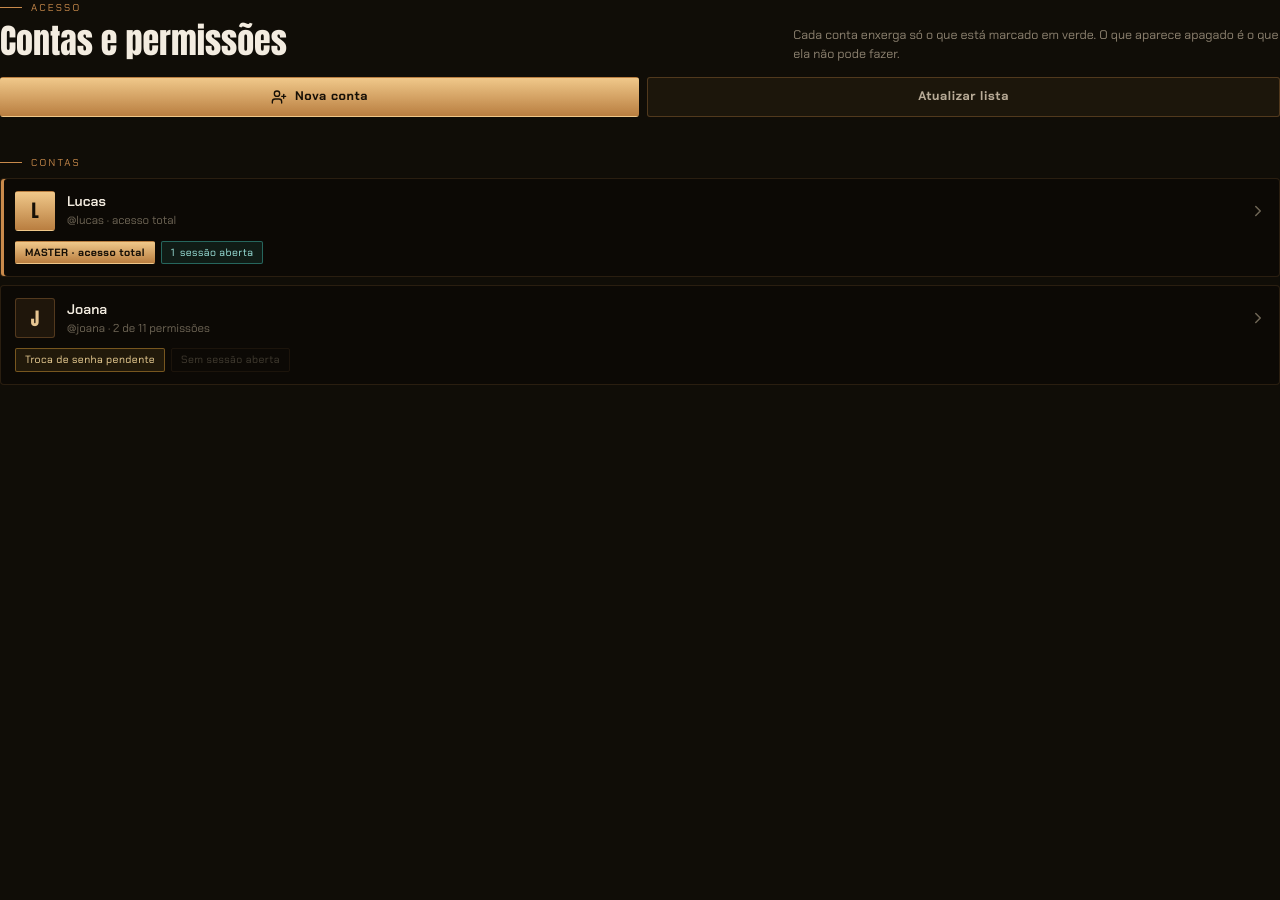
Test case: Usuários no celular › as ações de risco continuam pedindo confirmação nomeada dentro da folha
Click the button with aria-label "Abrir a conta de Joana" at (87, 309), box [67,300,1237,318]
(page scrolled)
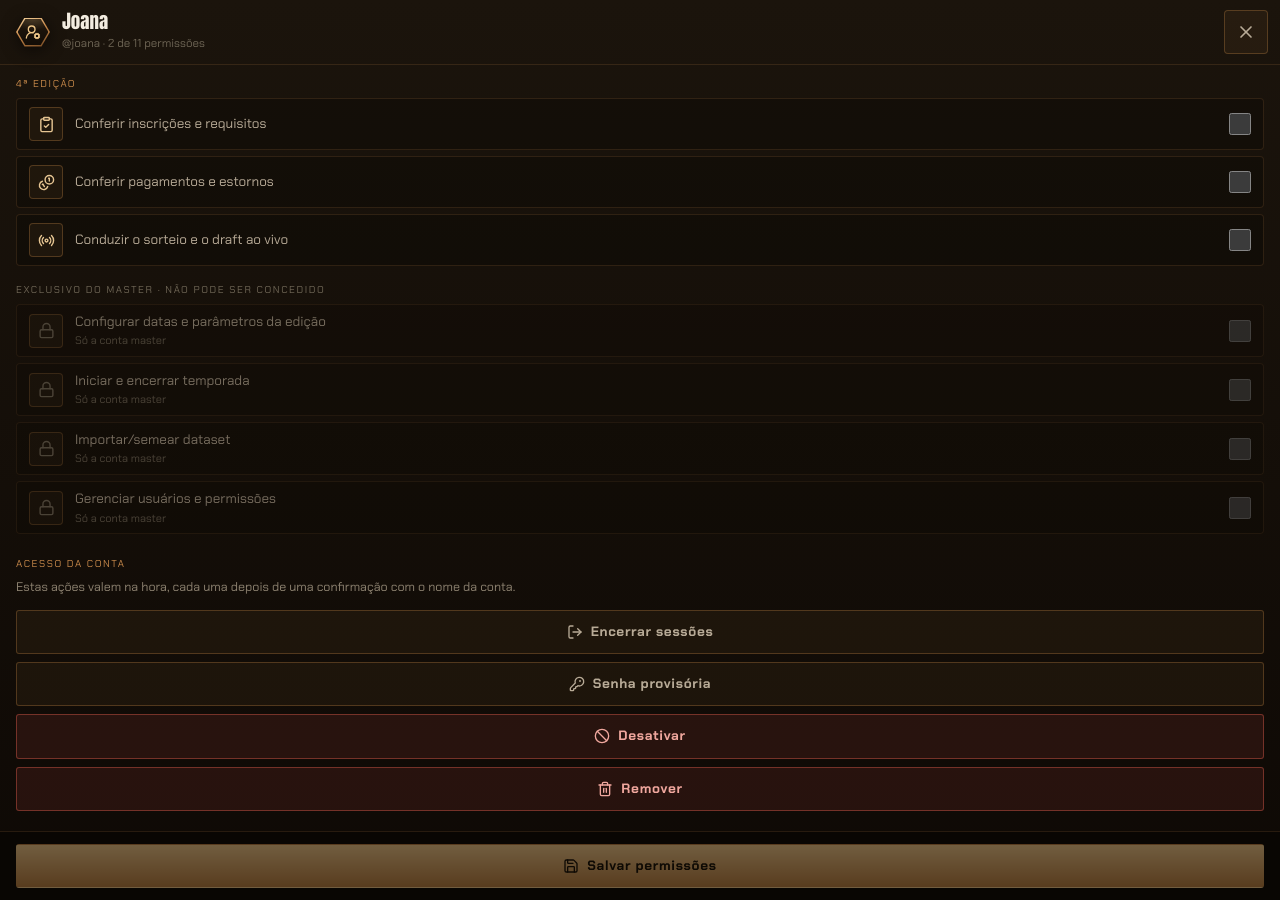
Click the button "Desativar" at (640, 736), box [16,714,1264,759]
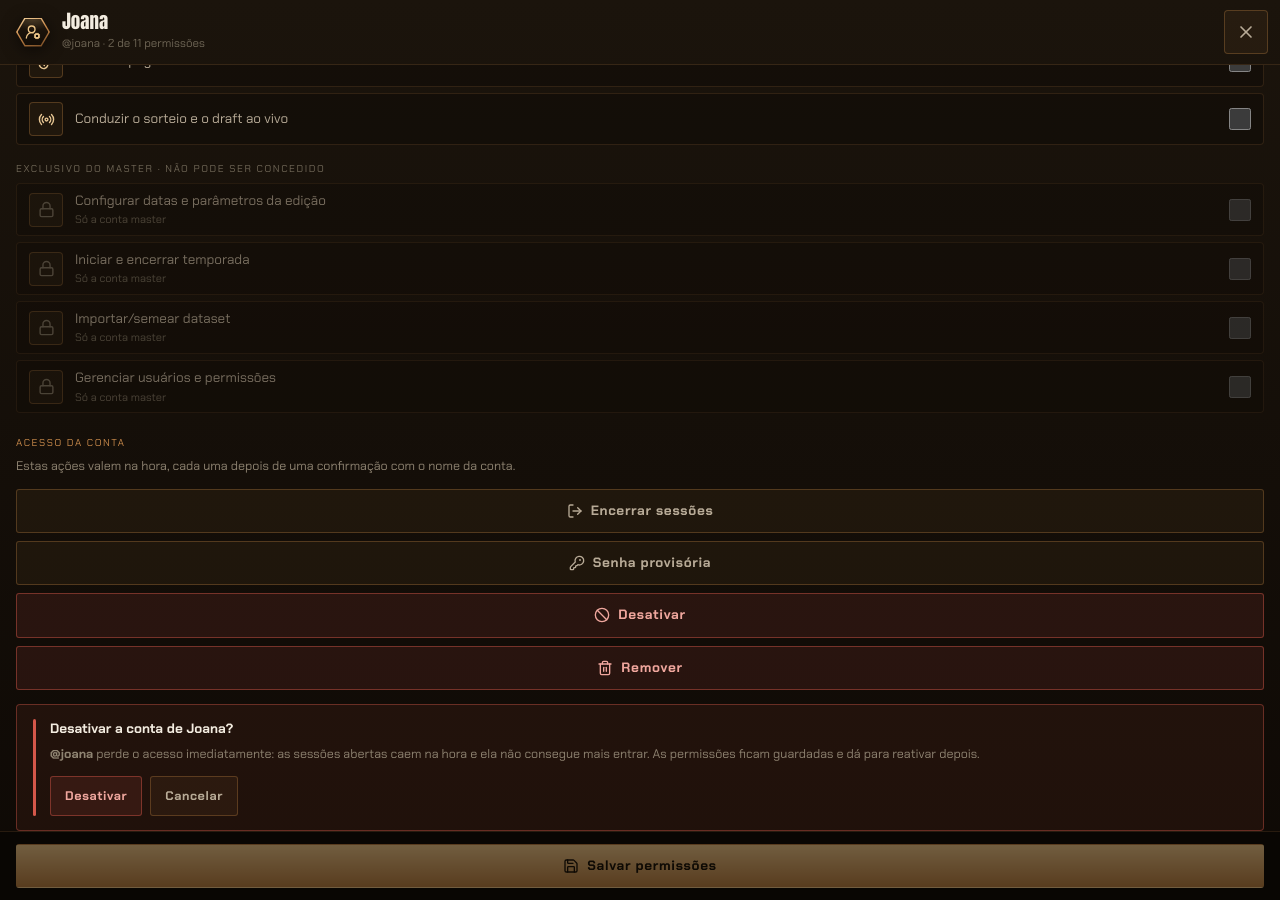
Expected: the text "Desativar a conta de Joana?" is shown, [50,720,233,737]
